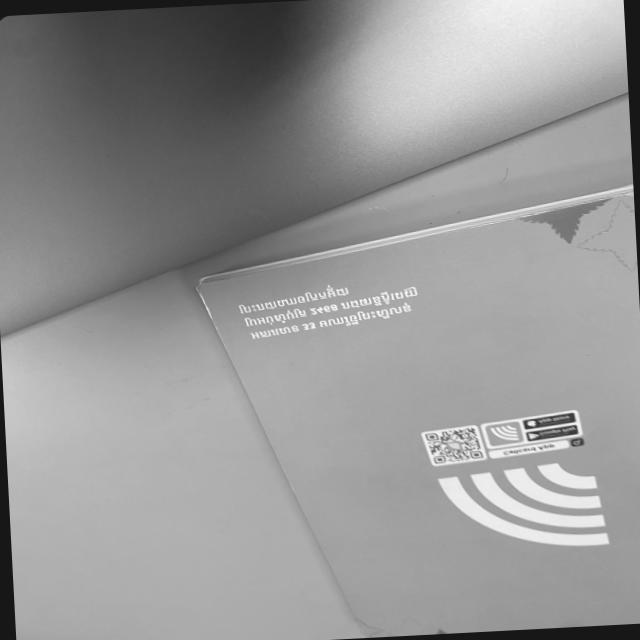676: (308, 301, 339, 318)
723: (301, 320, 318, 334)
Yolov11kh: (234, 280, 356, 318), (317, 297, 417, 335), (340, 283, 422, 313), (242, 306, 309, 330), (247, 323, 302, 343)
